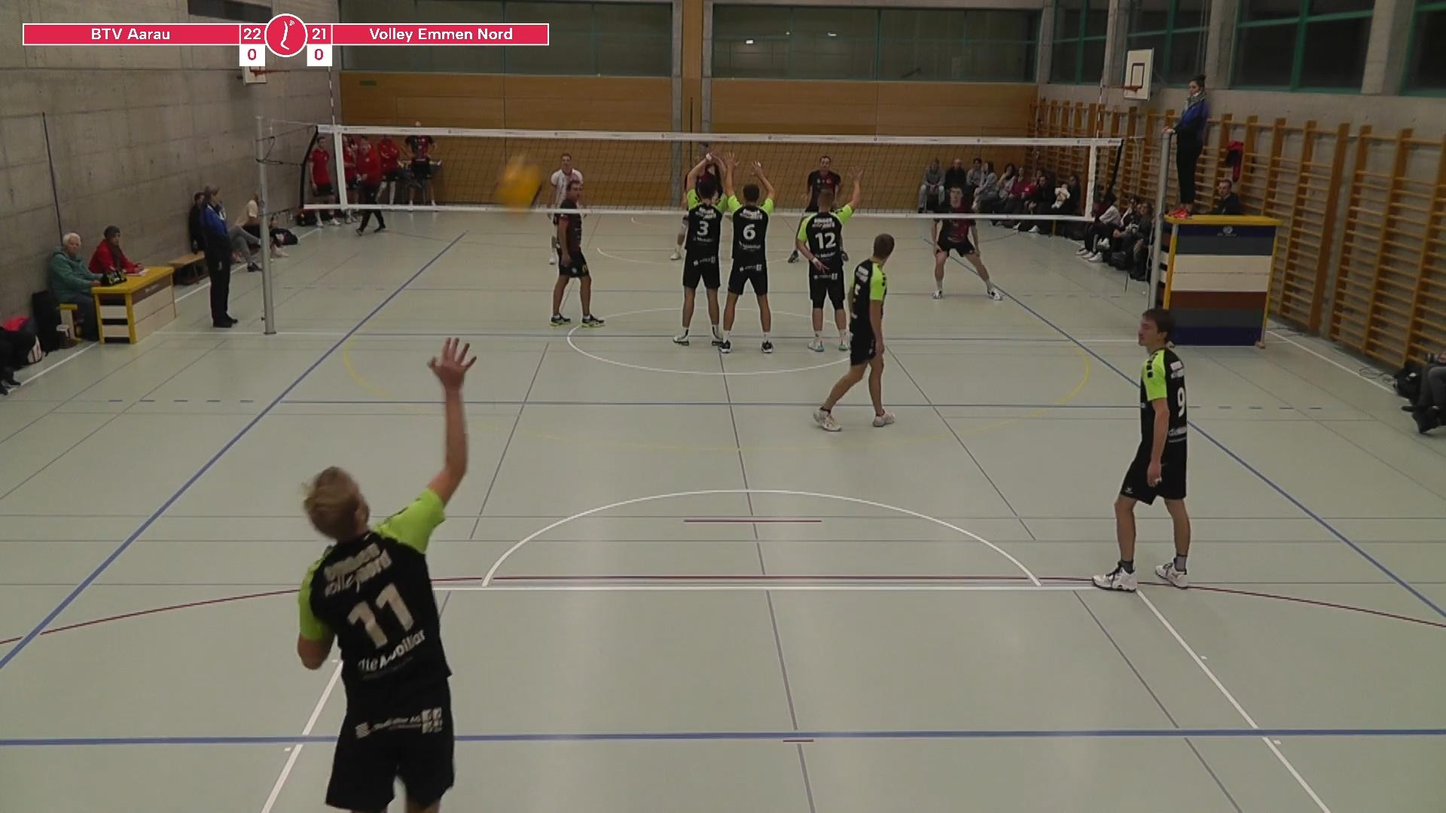Player: (1093, 308, 1190, 591), (815, 233, 894, 431), (795, 170, 861, 351), (719, 156, 774, 352), (673, 154, 722, 346), (551, 182, 603, 327), (932, 217, 1002, 300), (804, 156, 841, 214), (550, 153, 582, 207), (686, 159, 721, 189)
Serve: (263, 320, 501, 813)
ball: (486, 149, 547, 219)
